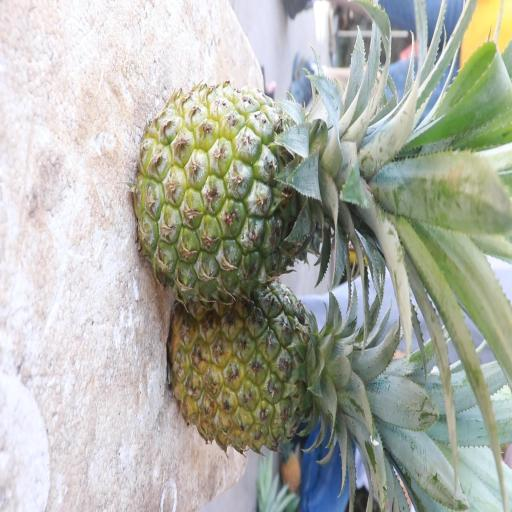------------------------------: (139, 81, 355, 291)
Pineapple - v8 v1: (170, 289, 374, 449)
